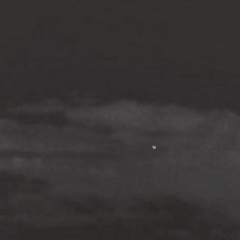Target: (151, 144, 157, 150)
